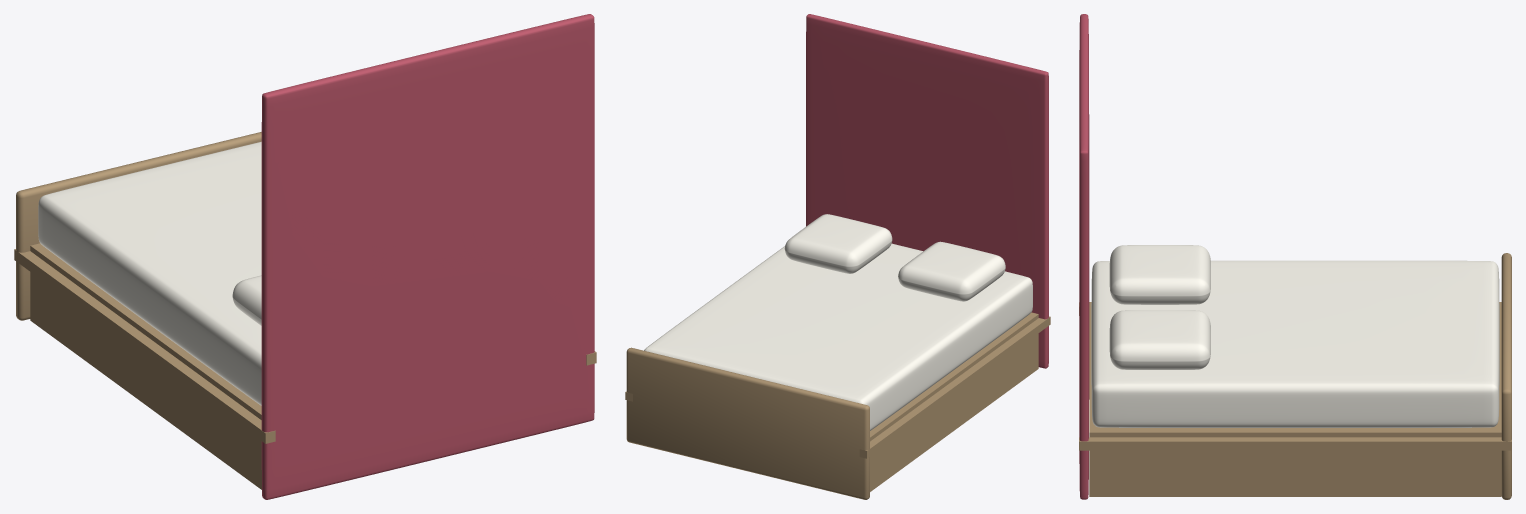
3 views of the same model, side by side, from view 1: azimuth 30°, elevation 25°; view 2: azimuth 150°, elevation 25°; view 3: azimuth 270°, elevation 25° (orthographic). The views are drawn at different scales.
Parts seen in each view (by area): view 1: Headboard, Mattress, BedFrame, Footboard, Pillow; view 2: Headboard, Mattress, Footboard, BedFrame, Pillow, Pillow.001; view 3: Mattress, BedFrame, Pillow, Pillow.001, Headboard, Footboard.
Part boxes in pixels (box(x1,y1,x2,y2)): Headboard: box(261, 14, 594, 499); Mattress: box(38, 141, 261, 405); BedFrame: box(14, 243, 596, 489); Footboard: box(16, 132, 261, 320); Pillow: box(232, 275, 261, 325); Headboard: box(806, 14, 1048, 368); Mattress: box(644, 243, 1032, 430); Footboard: box(626, 347, 869, 499); BedFrame: box(625, 312, 1050, 491); Pillow: box(898, 241, 1005, 301); Pillow.001: box(784, 214, 892, 273); Mattress: box(1091, 260, 1499, 427); BedFrame: box(1079, 302, 1511, 496); Pillow: box(1109, 245, 1210, 304); Pillow.001: box(1109, 310, 1210, 369); Headboard: box(1079, 14, 1089, 499); Footboard: box(1501, 253, 1511, 499).
Size of the model in its own units: 1.62 by 1.9 by 2.13.
